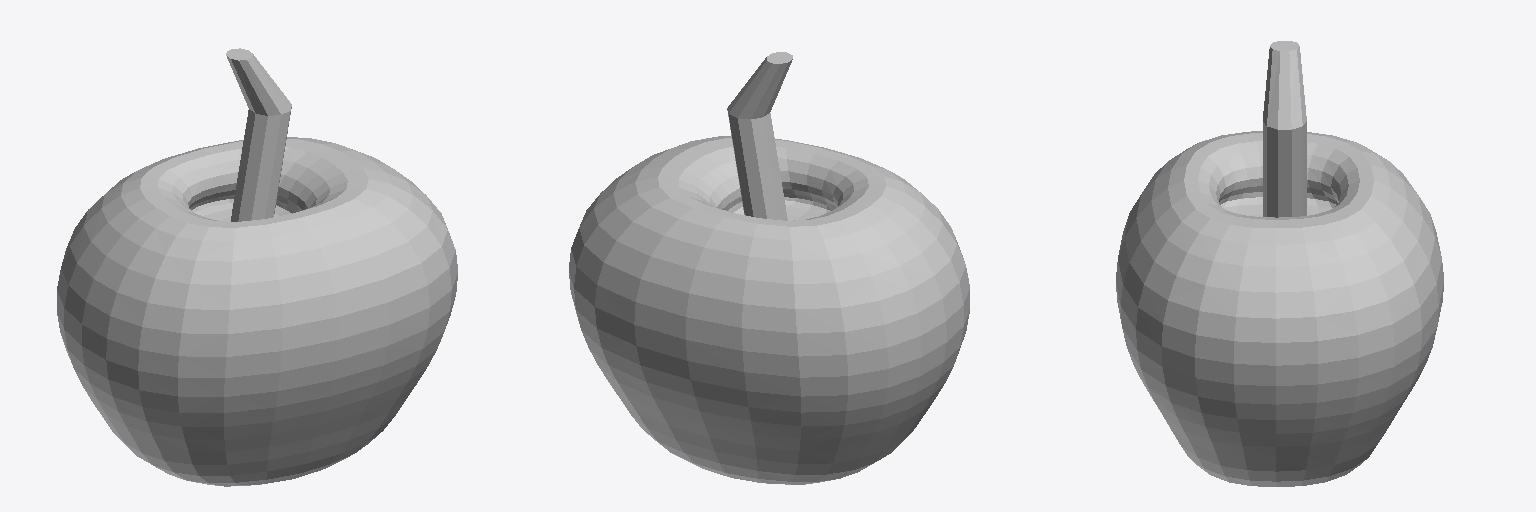
File: apple.obj
3 renders of one model, left to right at view 1: azimuth 30°, elevation 25°; view 2: azimuth 150°, elevation 25°; view 3: azimuth 270°, elevation 25°, orthographic.
Visible parts, largest first — view 1: Cylinder; view 2: Cylinder; view 3: Cylinder.
Part boxes in pixels (x1,y1,x2,y2): Cylinder: (57, 48, 457, 486); Cylinder: (569, 52, 969, 484); Cylinder: (1116, 41, 1443, 486).
Bounding box in the file's own units: 2.48 × 2.73 × 2.